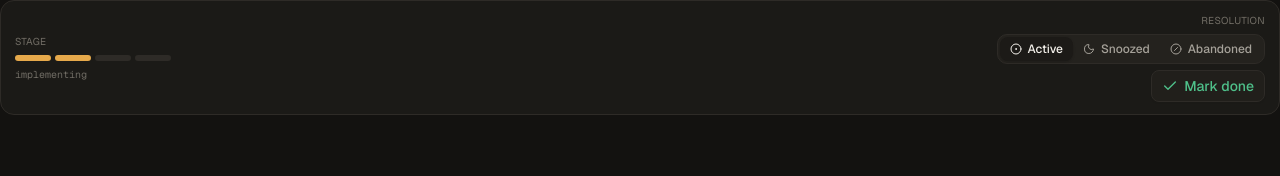
Test: TicketStateBar › clears the Mark done confirmation when Abandon is armed instead
Click the button "Mark done".
click(1208, 86)  # box [1151,70,1265,102]
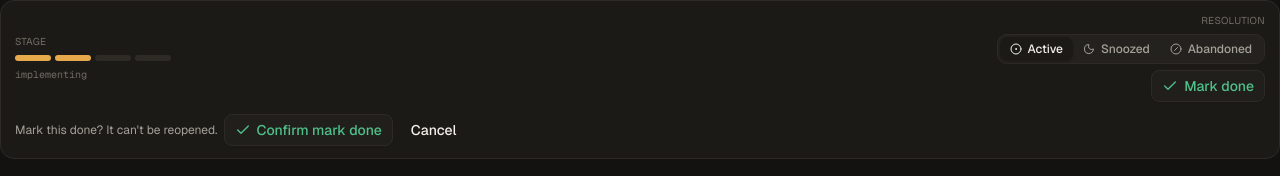
Result: the button "Confirm mark done" is shown at [224,114,393,146]
Click the button "Abandoned".
click(1211, 49)  # box [1160,37,1262,61]
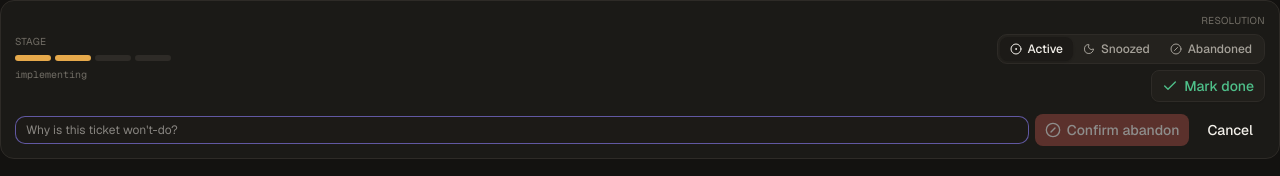
Result: the button "Confirm mark done" is gone
Result: the button "Confirm abandon" is shown at [1035,114,1189,146]
